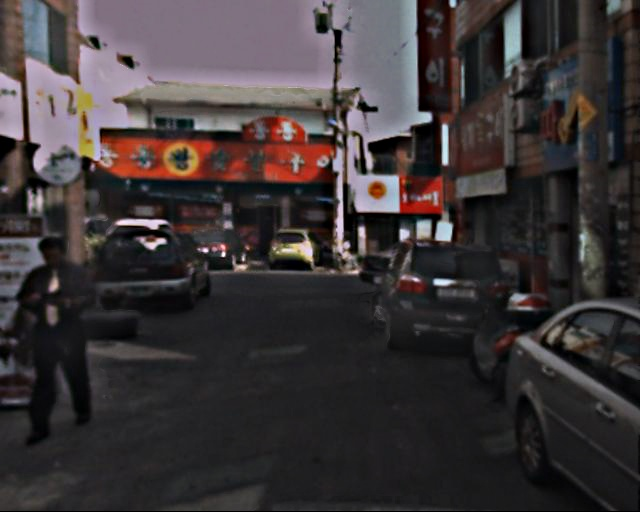person: (15, 231, 115, 437)
